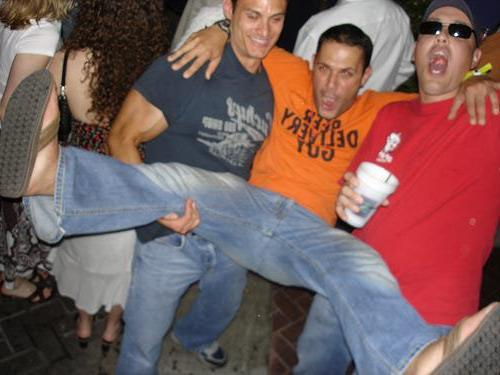Drunk: (422, 9, 472, 92), (317, 40, 362, 122), (235, 0, 281, 58)
